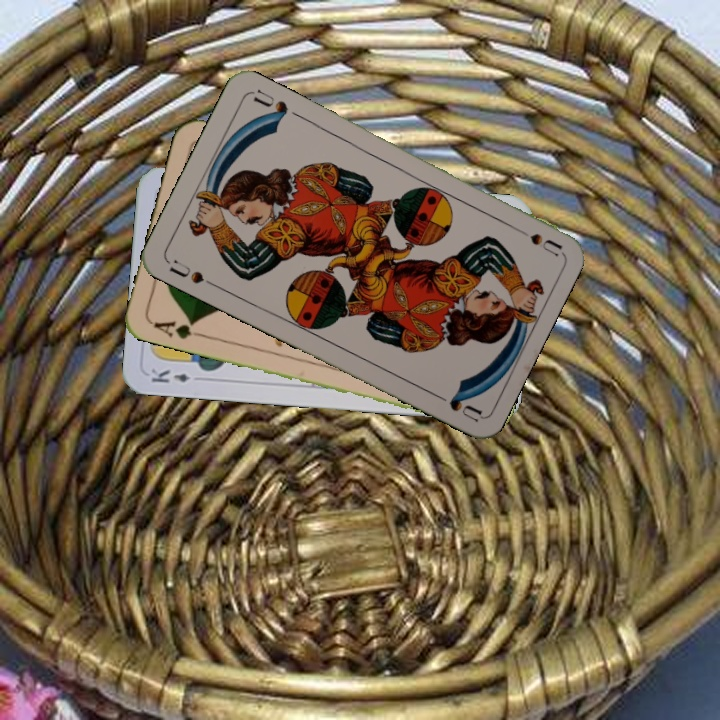EK: (147, 365, 193, 386)
GA: (149, 316, 207, 342)
SU: (507, 221, 564, 258), (165, 257, 219, 290)
